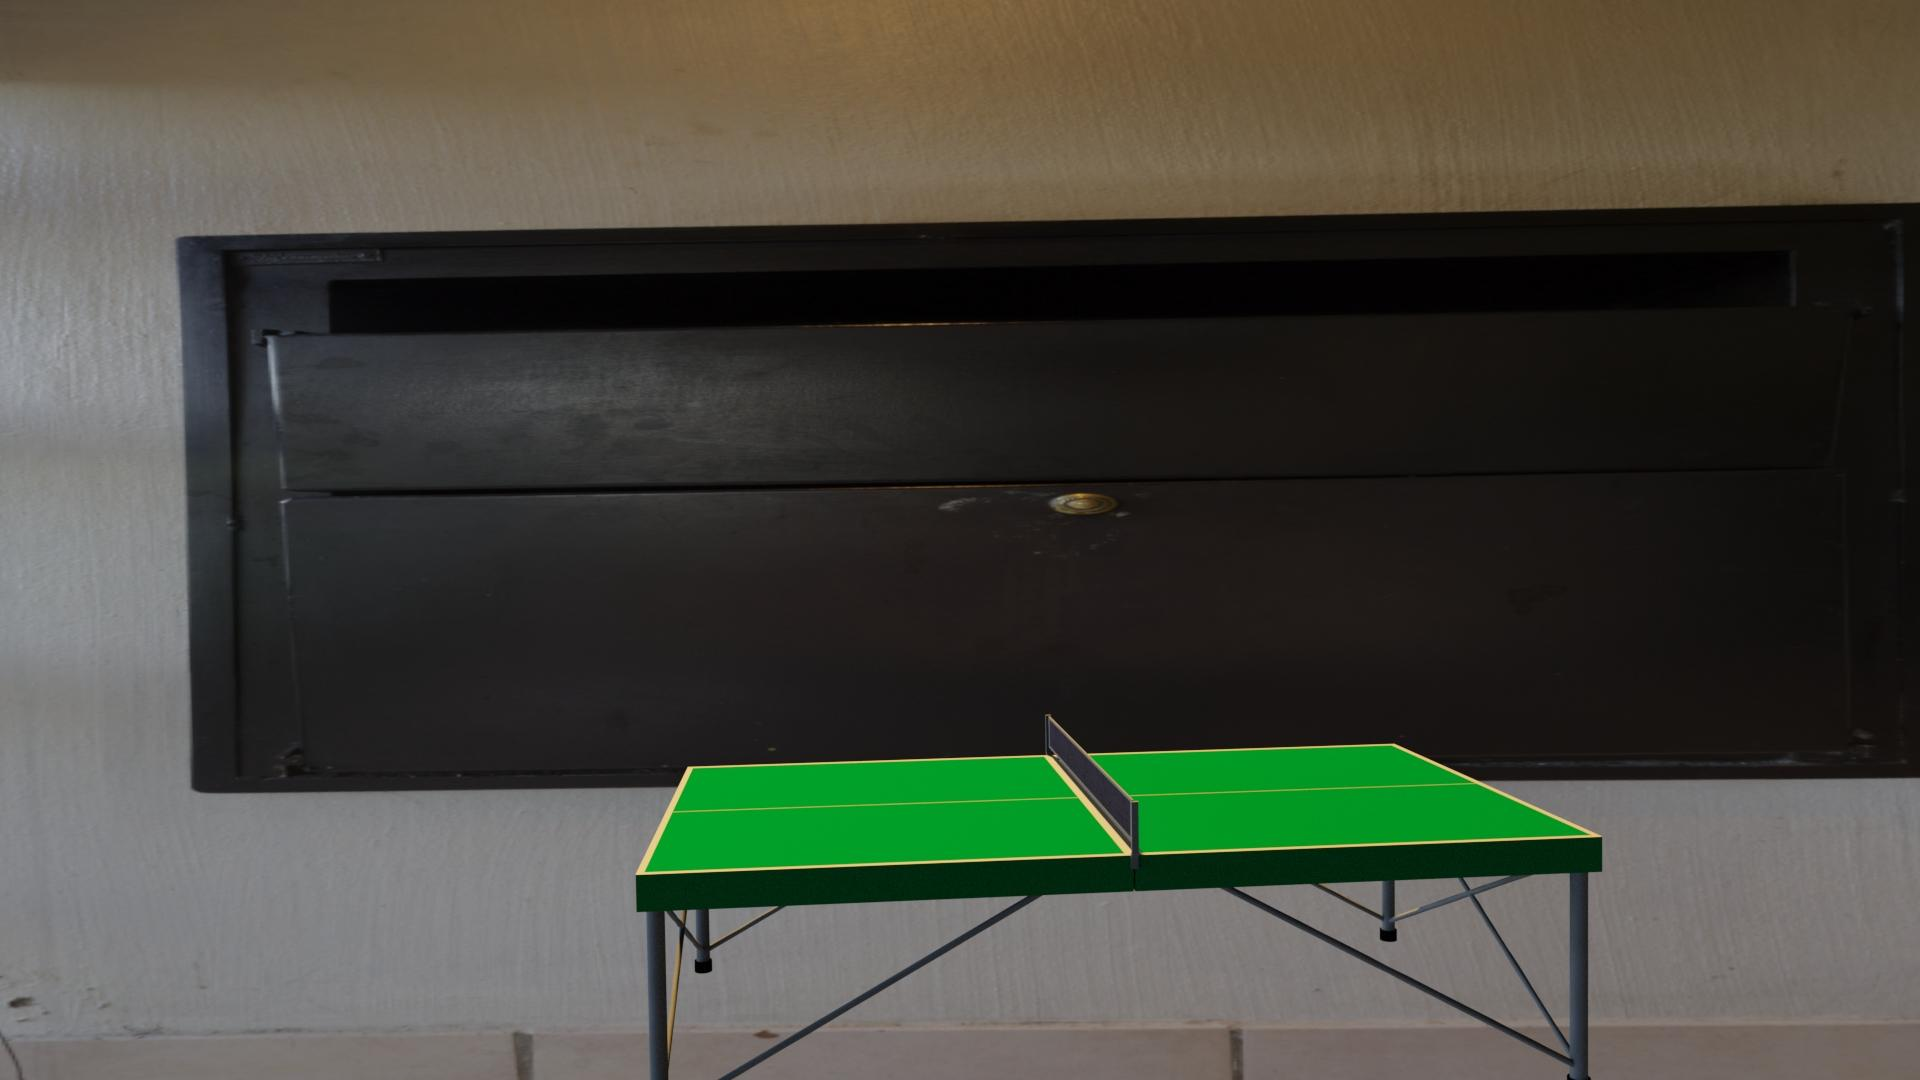table: (644, 745, 1592, 873)
